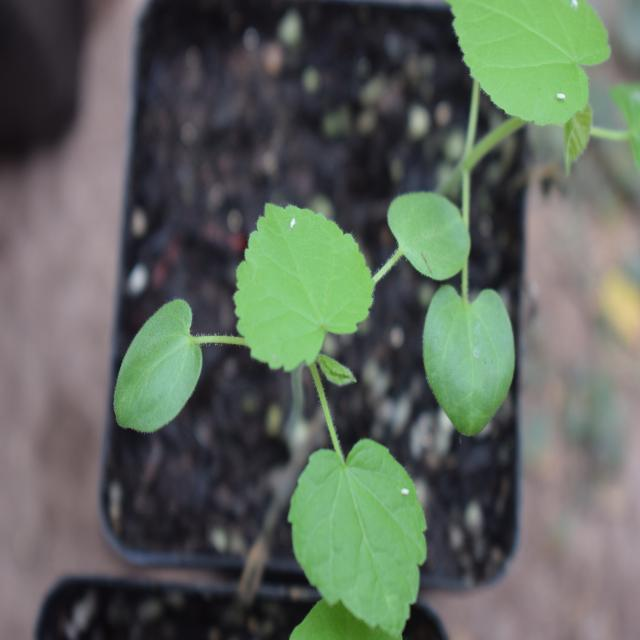abutilon theophrasti: (121, 175, 459, 612)
